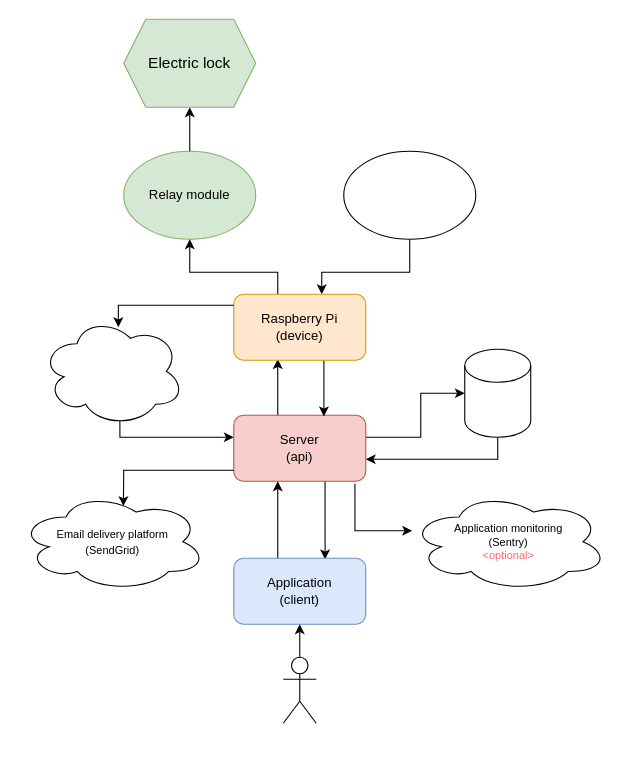
Some shapes in this 627 by 766 pixel diagram are drawn without their labels. Each missing label, with the centre of its shape:
Camera <optional>: point (409, 194)
Camera Proxy (ngrok) <optional>: point (112, 370)
DB (Postgres): point (497, 392)
User: point (299, 689)
